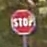stop: (9, 8, 36, 35)
